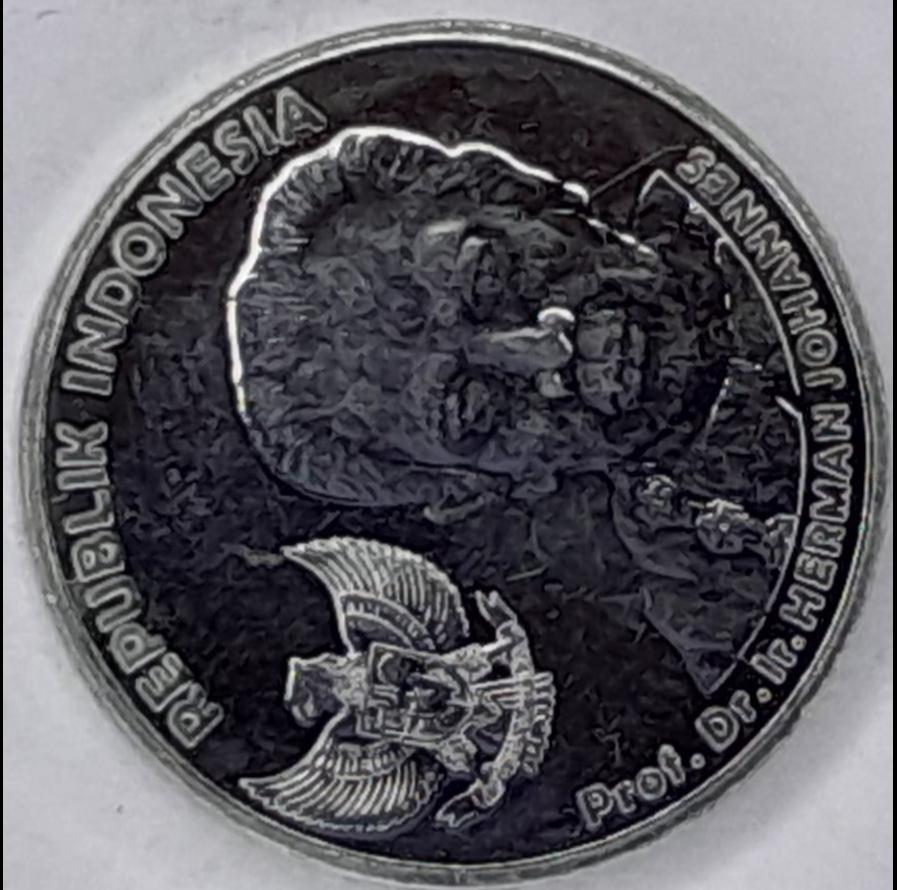coin_100_e2016: (17, 12, 891, 888)
